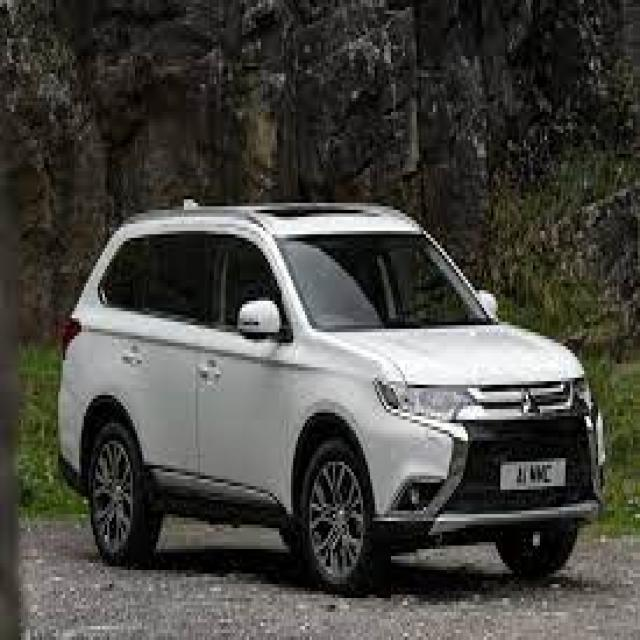light_vehicle: (56, 201, 605, 593)
